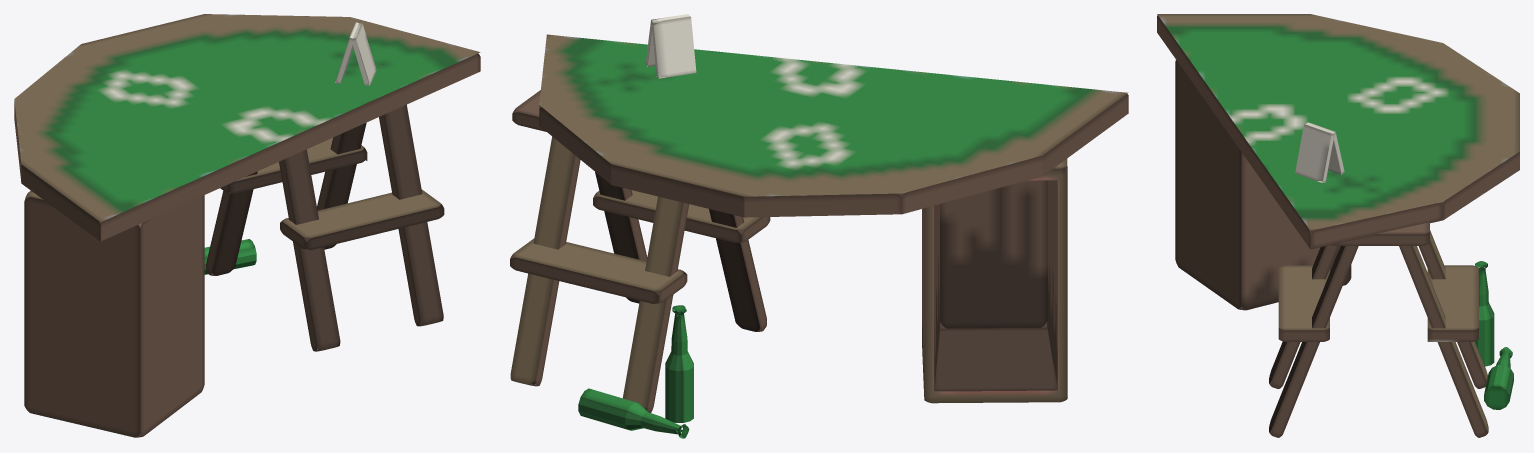
File: blackjackTable.fbx
3 views of the same model, side by side, from view 1: azimuth 30°, elevation 25°; view 2: azimuth 150°, elevation 25°; view 3: azimuth 270°, elevation 25° (orthographic). The views are drawn at different scales.
Parts seen in each view (by area): view 1: cylinder, cuboid, cuboid_2, cuboid_4, cuboid_7, cuboid_3, cuboid_6, cuboid_1, cuboid_9, cylinder_2; view 2: cylinder, cuboid, cuboid_1, cuboid_6, cuboid_3, cuboid_4, cuboid_7, cylinder_1, cylinder_2, cuboid_8, cuboid_2, cuboid_5; view 3: cylinder, cuboid, cuboid_1, cuboid_2, cuboid_7, cuboid_6, cuboid_9, cuboid_3, cuboid_4, cylinder_1, cylinder_2, cuboid_5 (+1 smaller).
Boxes of the visible parts, box(x1,y1,x2,y2) form: cylinder: box(14, 14, 480, 241); cuboid: box(24, 191, 204, 437); cuboid_2: box(379, 104, 443, 326); cuboid_4: box(279, 149, 340, 351); cuboid_7: box(280, 189, 444, 249); cuboid_3: box(206, 171, 257, 275); cuboid_6: box(220, 137, 367, 193); cuboid_1: box(317, 122, 366, 249); cuboid_9: box(353, 22, 376, 86); cylinder_2: box(204, 239, 256, 274); cylinder: box(539, 34, 1128, 217); cuboid: box(922, 159, 1067, 403); cuboid_1: box(510, 136, 580, 386); cuboid_6: box(510, 238, 687, 303); cuboid_3: box(623, 196, 689, 412); cuboid_4: box(709, 209, 766, 331); cuboid_7: box(593, 190, 770, 242); cylinder_1: box(665, 305, 693, 422); cylinder_2: box(578, 388, 689, 438); cuboid_8: box(652, 16, 696, 78); cuboid_2: box(595, 172, 647, 303); cuboid_5: box(512, 90, 546, 131); cylinder: box(1157, 14, 1519, 249); cuboid: box(1175, 60, 1351, 310); cuboid_1: box(1399, 246, 1488, 437); cuboid_2: box(1269, 246, 1358, 437); cuboid_7: box(1278, 265, 1329, 341); cuboid_6: box(1427, 265, 1478, 341); cuboid_9: box(1295, 124, 1333, 182); cuboid_3: box(1418, 230, 1487, 388); cuboid_4: box(1269, 245, 1338, 388); cylinder_1: box(1475, 261, 1494, 366); cylinder_2: box(1484, 347, 1513, 409); cuboid_5: box(1331, 222, 1429, 245).
Size of the model in its own units: 128 by 77.43 by 88.4.
Materials: 1 (1 with a texture image).
